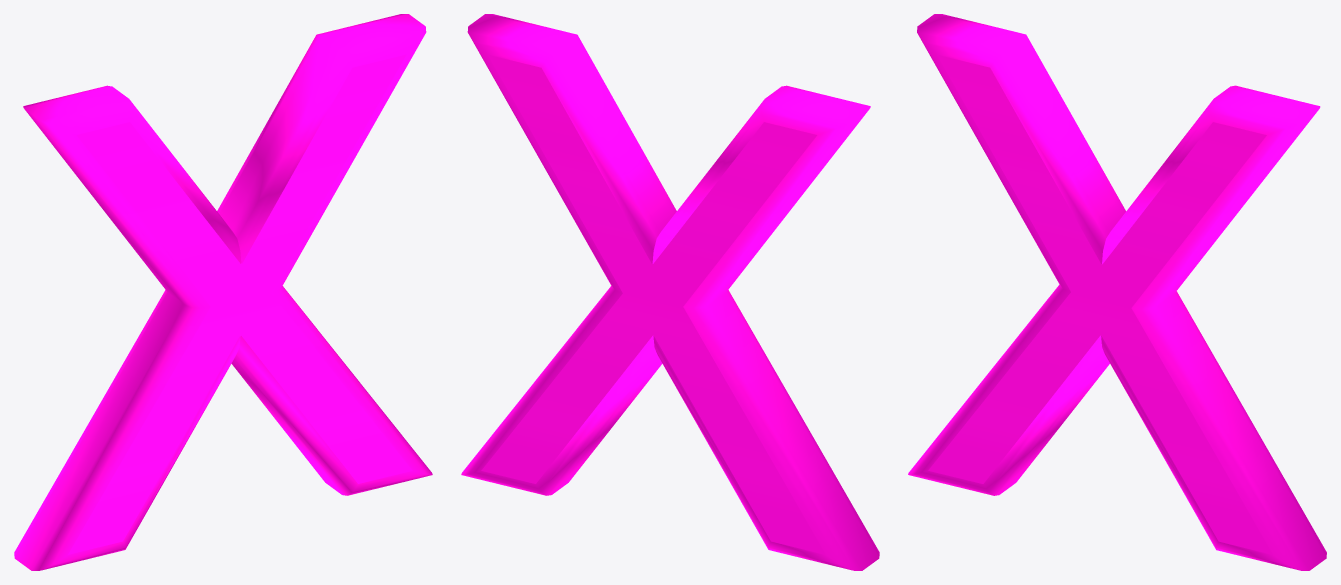
3 renders of one model, left to right at view 1: azimuth 30°, elevation 25°; view 2: azimuth 150°, elevation 25°; view 3: azimuth 330°, elevation 25°, orthographic.
Visible parts, largest first — view 1: IndicatorXPink; view 2: IndicatorXPink; view 3: IndicatorXPink.
Part boxes in pixels (<box>): IndicatorXPink: <box>14,14,432,570</box>; IndicatorXPink: <box>461,14,879,570</box>; IndicatorXPink: <box>908,14,1326,570</box>.
Bounding box in the file's own units: 0.4438 × 0.4743 × 0.0645.
Materials: 1 (1 with a texture image).
